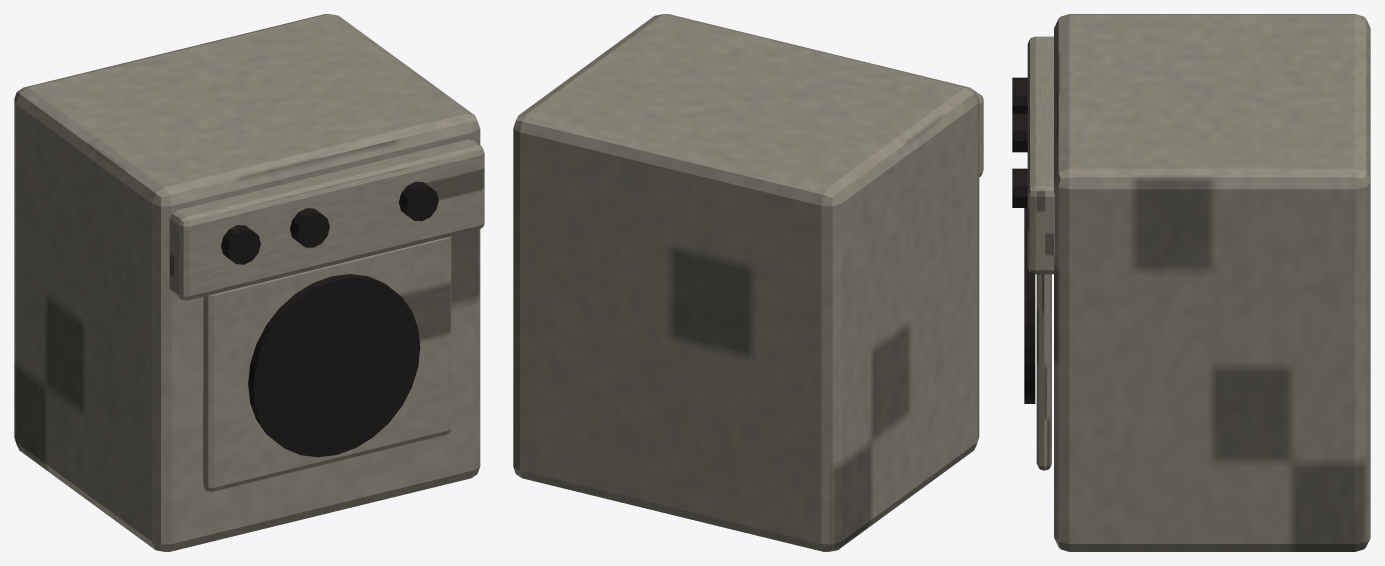
Rendered from basement-dryer.glb.
3 views of the same model, side by side, from view 1: azimuth 30°, elevation 25°; view 2: azimuth 150°, elevation 25°; view 3: azimuth 270°, elevation 25° (orthographic). The views are drawn at different scales.
Visible parts, largest first — view 1: SM_lonely_basement_dryer_Metal_DirtyEnamel, SM_lonely_basement_dryer_Rubber_SootBlack; view 2: SM_lonely_basement_dryer_Metal_DirtyEnamel; view 3: SM_lonely_basement_dryer_Metal_DirtyEnamel, SM_lonely_basement_dryer_Rubber_SootBlack.
Part boxes in pixels (x1=…): SM_lonely_basement_dryer_Metal_DirtyEnamel: x1=14, y1=14, x2=484, y2=551; SM_lonely_basement_dryer_Rubber_SootBlack: x1=221, y1=181, x2=438, y2=457; SM_lonely_basement_dryer_Metal_DirtyEnamel: x1=513, y1=14, x2=983, y2=551; SM_lonely_basement_dryer_Metal_DirtyEnamel: x1=1027, y1=14, x2=1370, y2=551; SM_lonely_basement_dryer_Rubber_SootBlack: x1=1012, y1=77, x2=1035, y2=403.
Bounding box in the file's own units: 0.9 × 0.96 × 0.815.
2 materials, 1 textured.
